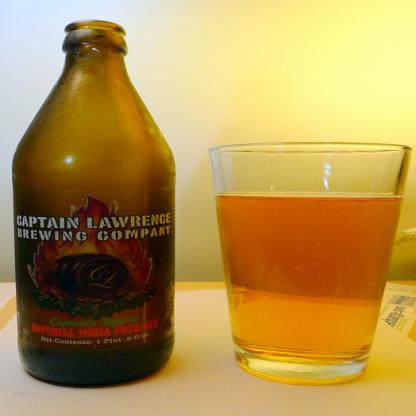drinking: (12, 20, 176, 388), (208, 141, 411, 386)
